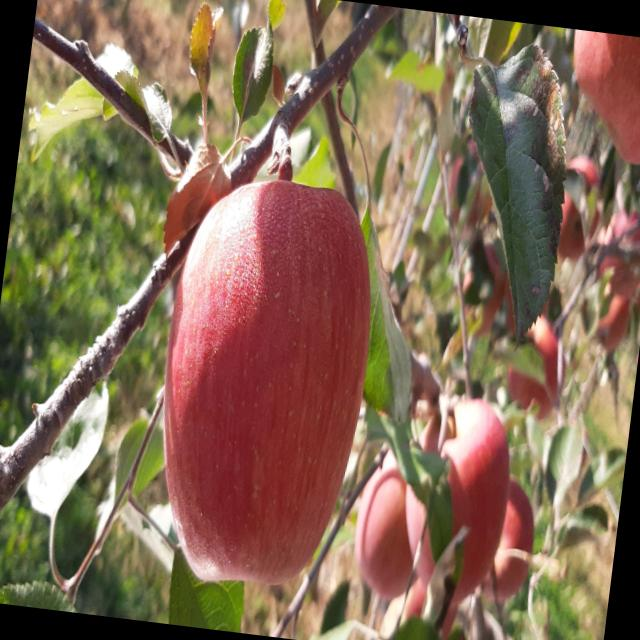fresh: (135, 159, 396, 608)
